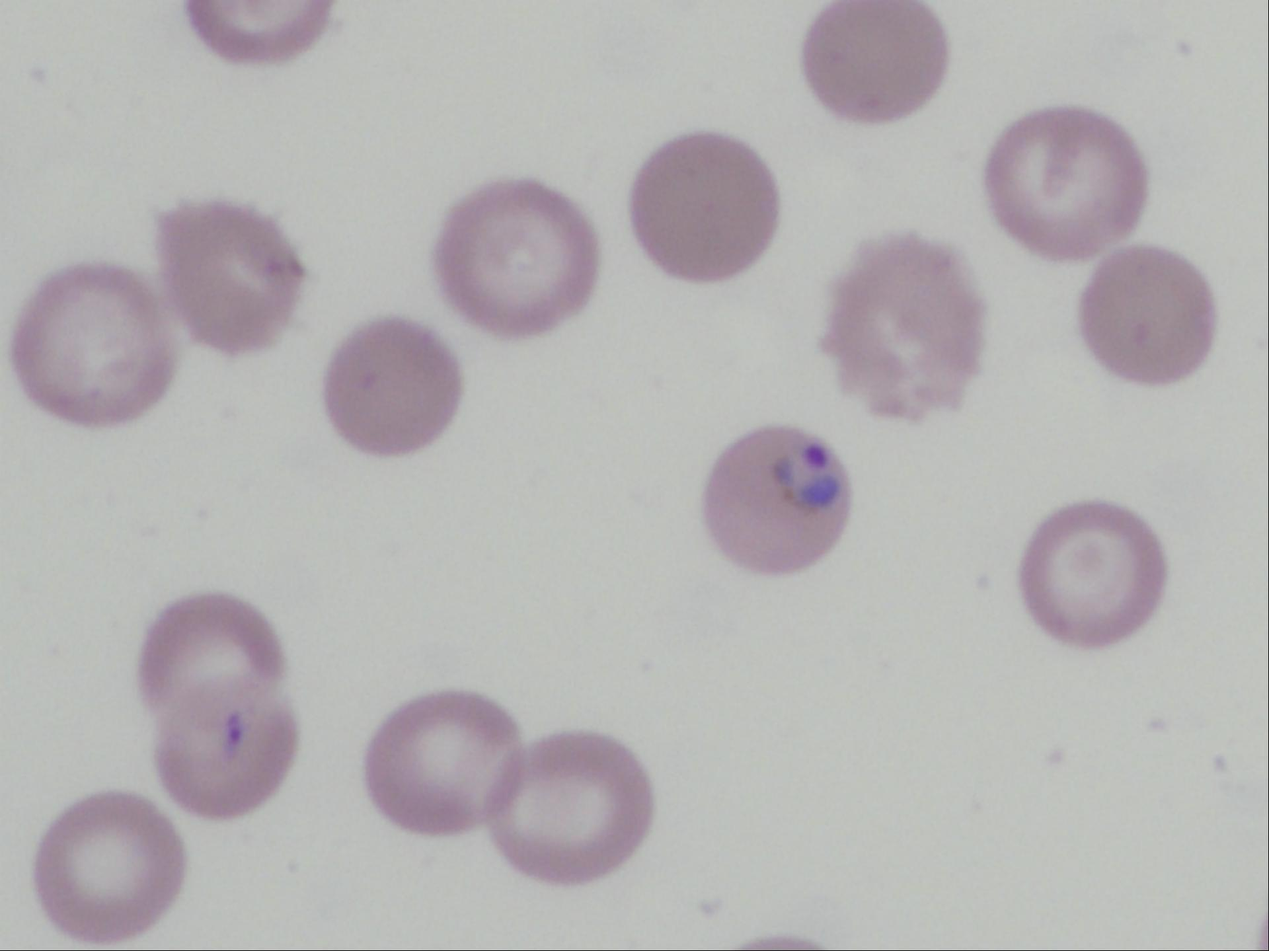Infected: (701, 423, 853, 575)
Uninfected: (823, 234, 987, 416), (9, 262, 174, 424), (436, 181, 601, 337), (493, 734, 653, 884), (985, 104, 1145, 252), (156, 200, 307, 352), (1013, 499, 1166, 648), (31, 794, 185, 942), (628, 132, 782, 279), (365, 693, 519, 836), (321, 317, 463, 455), (157, 677, 297, 816), (1080, 246, 1216, 385), (800, 1, 950, 122), (138, 592, 282, 707)
